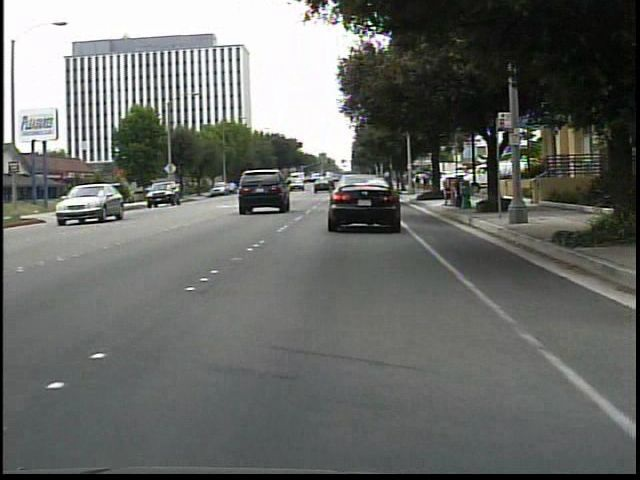person: (412, 172, 422, 191), (421, 174, 430, 194)
